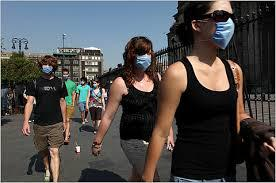OK: (198, 9, 235, 49), (136, 50, 155, 72), (43, 62, 55, 75), (64, 73, 70, 80), (81, 80, 87, 86), (94, 83, 98, 89)
